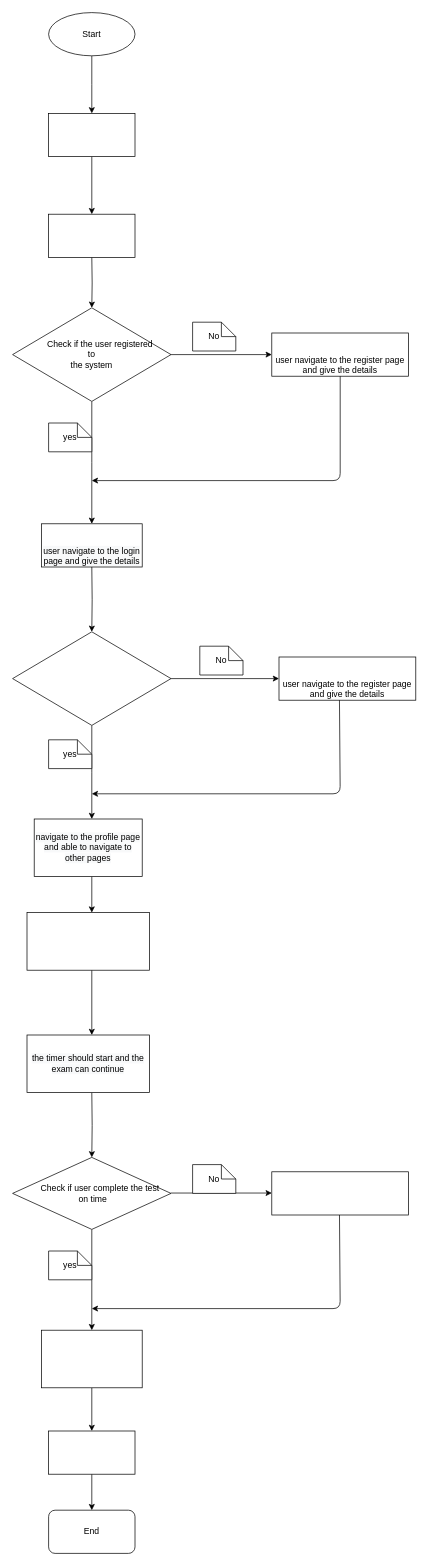
This 428x1566 diagram has some shape labels left out. Here are the shapes that lost their labels. From the top down, the box of each, then its label:
(48, 113, 135, 157): open the web site
(48, 213, 135, 257): go to the landing page
(12, 631, 171, 725): Check if the given details are correct from the system
(26, 912, 149, 970): user should click the 'begin' button to start the exam
(271, 1171, 409, 1215): test will be submitted to the system
(41, 1329, 142, 1388): 'Begin' button should display and can end the exam
(48, 1430, 135, 1474): should able to logout
